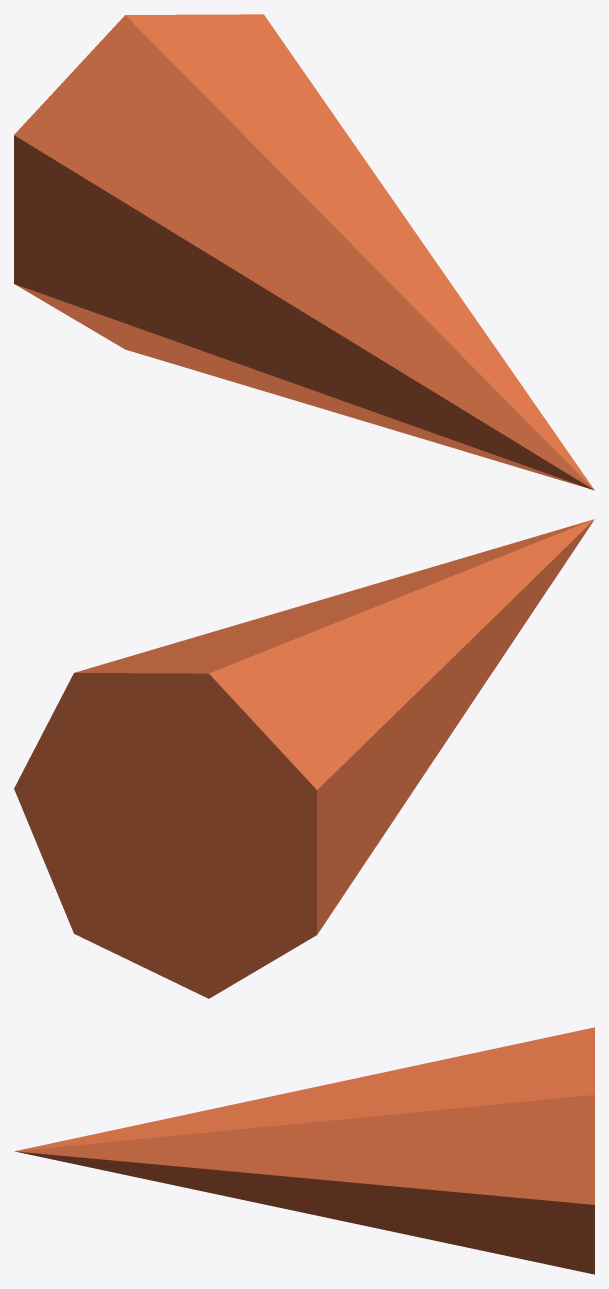
The model's file is nose.fbx.
3 views of the same model, one above another, from view 1: azimuth 30°, elevation 25°; view 2: azimuth 150°, elevation 25°; view 3: azimuth 270°, elevation 25° (orthographic). The views are drawn at different scales.
Parts seen in each view (by area): view 1: nose; view 2: nose; view 3: nose.
Boxes of the visible parts, box(x1,y1,x2,y2) form: nose: box(14, 14, 594, 490); nose: box(14, 519, 594, 998); nose: box(15, 1027, 594, 1274).
Bounding box in the file's own units: 36.12 × 37.05 × 87.
